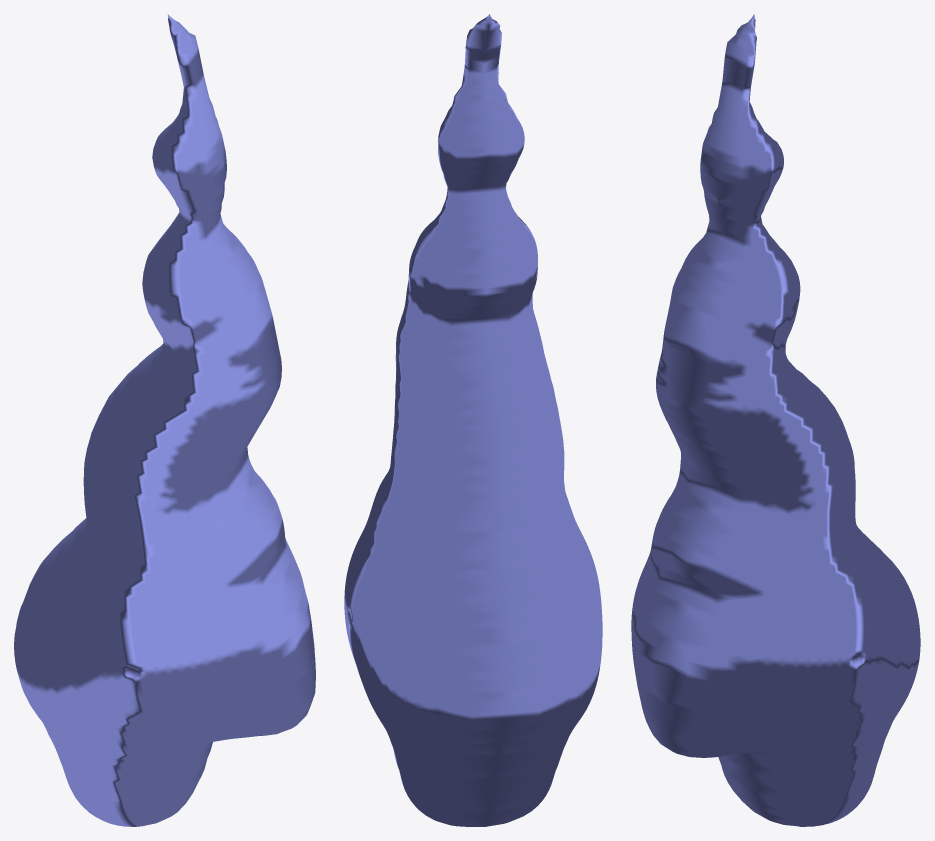
File: smoke.fbx
3 views of the same model, side by side, from view 1: azimuth 30°, elevation 25°; view 2: azimuth 150°, elevation 25°; view 3: azimuth 270°, elevation 25° (orthographic). The views are drawn at different scales.
Parts seen in each view (by area): view 1: root.001; view 2: root.001; view 3: root.001.
Boxes of the visible parts, box(x1,y1,x2,y2) form: root.001: box(14, 14, 315, 826); root.001: box(344, 14, 602, 826); root.001: box(631, 14, 920, 826).
Size of the model in its own units: 440 by 1369 by 444.
